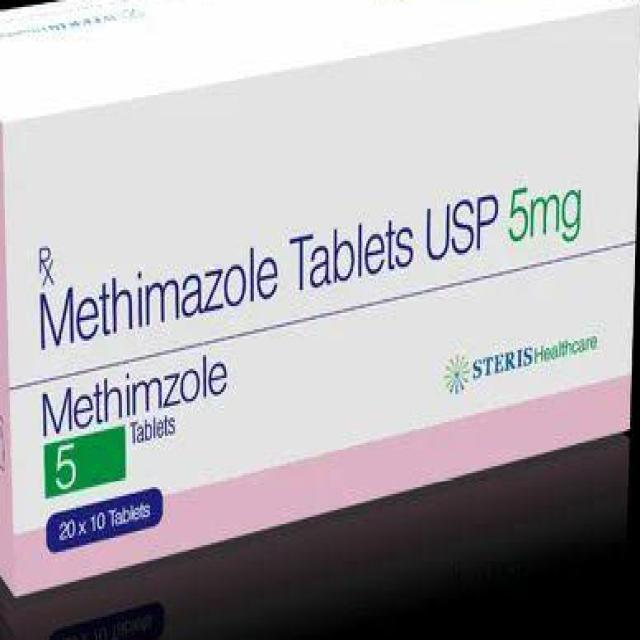drug-name: (39, 348, 232, 442)
